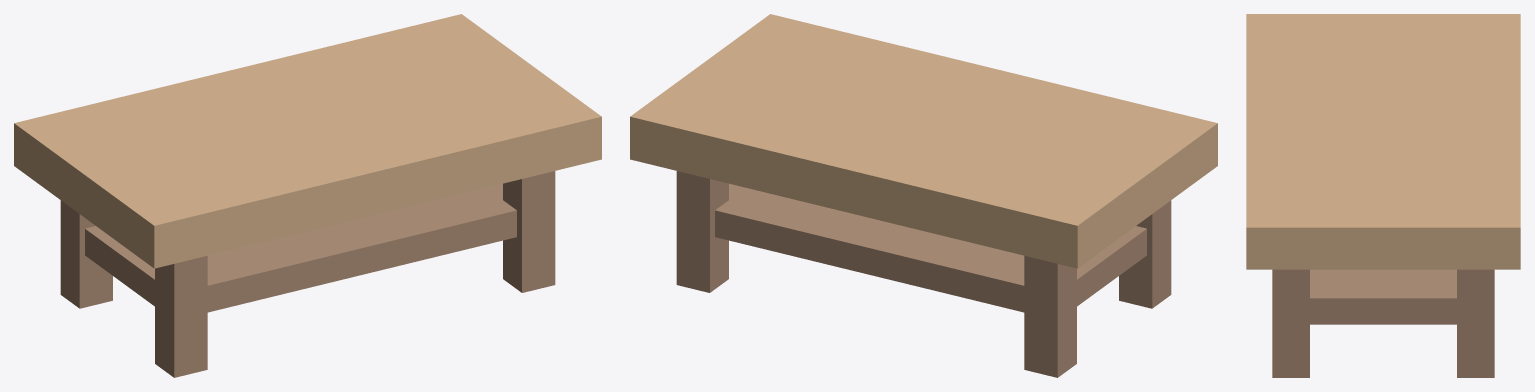
The model's file is coffee-table.glb.
3 views of the same model, side by side, from view 1: azimuth 30°, elevation 25°; view 2: azimuth 150°, elevation 25°; view 3: azimuth 270°, elevation 25° (orthographic). The views are drawn at different scales.
Parts seen in each view (by area): view 1: tabletop, shelf, leg-3, leg-4, leg-1; view 2: tabletop, shelf, leg-1, leg-2, leg-3; view 3: tabletop, shelf, leg-2, leg-4.
Boxes of the visible parts, x1,y1,x2,y2 form: tabletop: [14, 14, 601, 268]; shelf: [85, 183, 516, 312]; leg-3: [155, 255, 207, 377]; leg-4: [503, 171, 555, 292]; leg-1: [60, 200, 112, 308]; tabletop: [630, 14, 1217, 268]; shelf: [715, 183, 1146, 312]; leg-1: [1024, 255, 1076, 377]; leg-2: [676, 171, 728, 292]; leg-3: [1119, 200, 1171, 308]; tabletop: [1246, 14, 1520, 269]; shelf: [1310, 269, 1456, 324]; leg-2: [1457, 269, 1494, 377]; leg-4: [1272, 269, 1309, 377].
Size of the model in its own units: 1.75 by 0.635 by 0.95.
